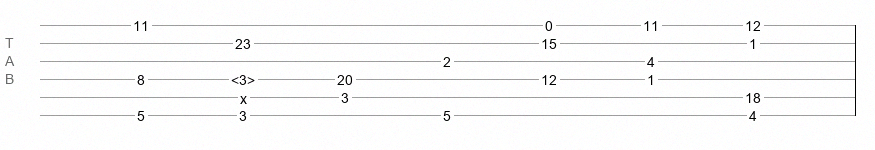0: (545, 18, 553, 28)
1: (647, 72, 655, 82), (749, 36, 757, 46)
11: (133, 18, 149, 28), (643, 18, 659, 28)
12: (541, 72, 557, 82), (745, 18, 761, 28)
15: (541, 36, 557, 46)
18: (745, 90, 761, 100)
2: (443, 54, 451, 64)
20: (337, 72, 353, 82)
23: (235, 36, 251, 46)
3: (239, 108, 247, 118), (341, 90, 349, 100)
4: (647, 54, 655, 64), (749, 108, 757, 118)
5: (137, 108, 145, 118), (443, 108, 451, 118)
8: (137, 72, 145, 82)
harmonic: (231, 72, 255, 82)
x: (240, 91, 247, 99)
